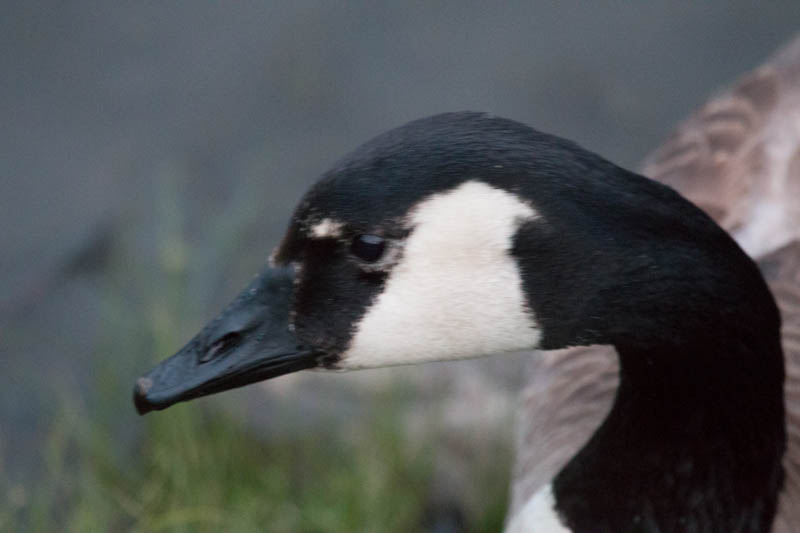goose-head: (131, 110, 651, 415)
